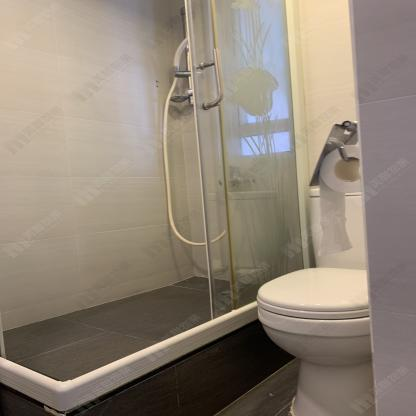Toilet: (253, 187, 376, 416)
Water Cubicle: (2, 0, 313, 416)
